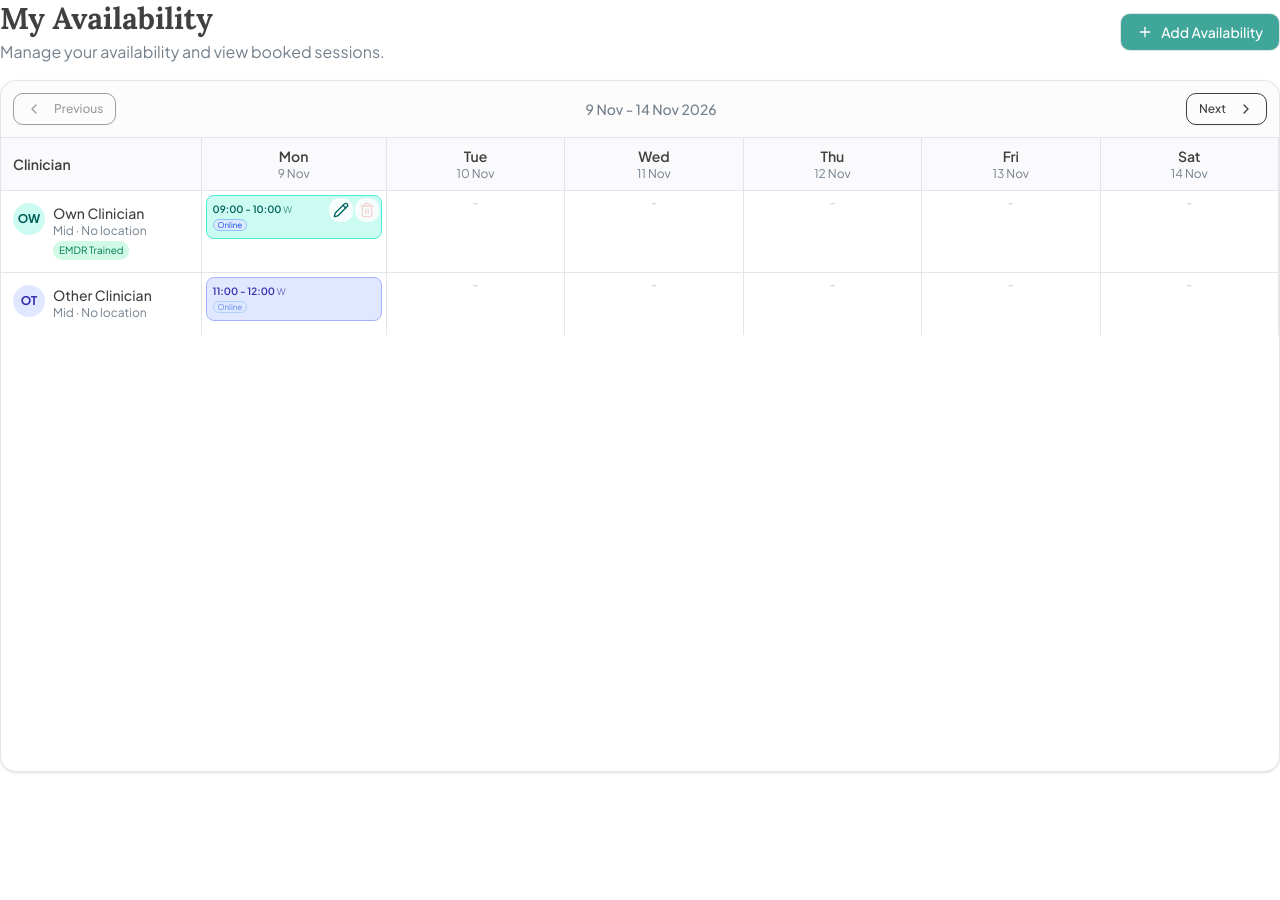
Test case: shows a stale-booking rejection after clicking the visible clinician retire icon
This screenshot has width=1280, height=900.
Click the button with test id "button-delete-slot-own-slot" at [367, 210], box x1=355 y1=198 x2=379 y2=222
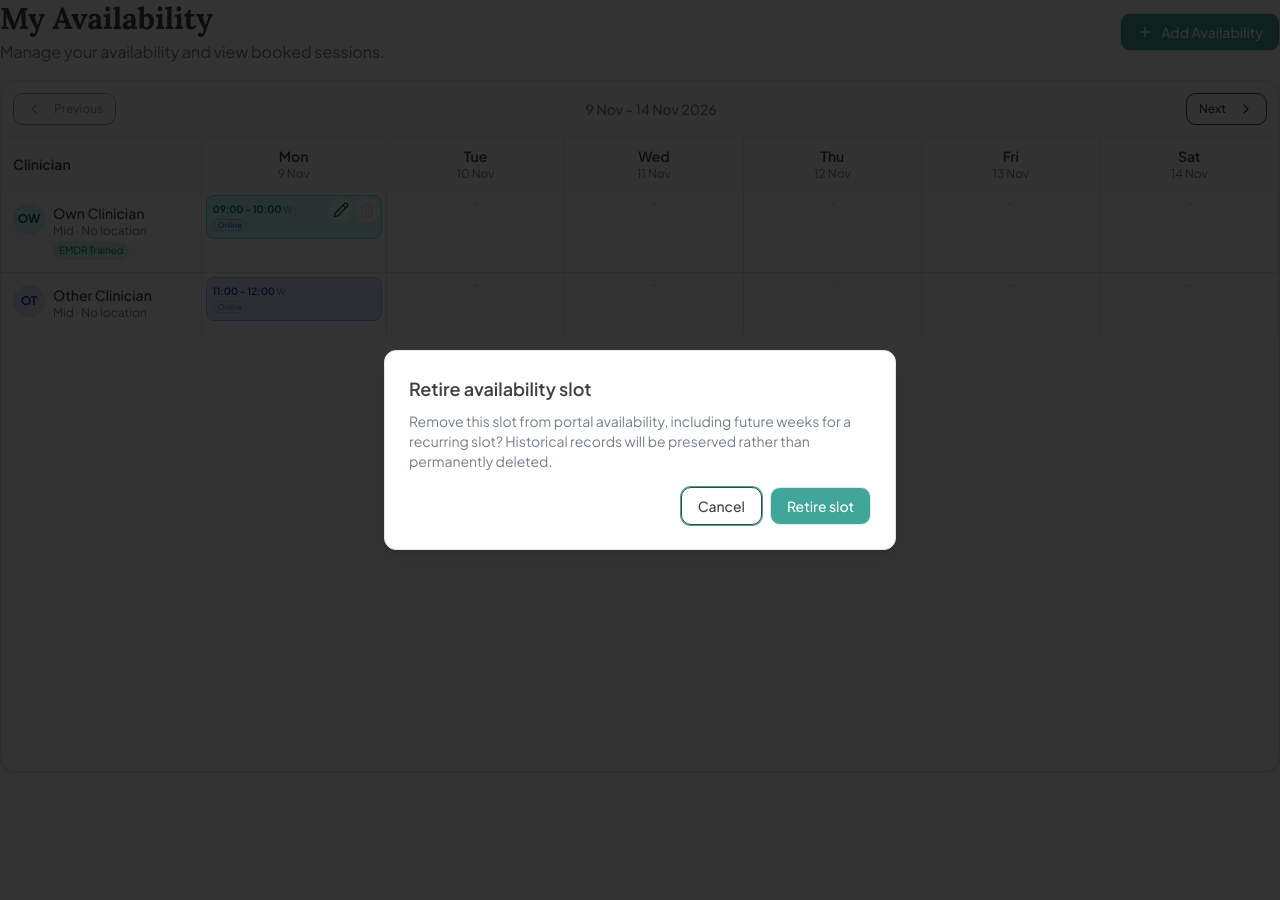
Click the button "Retire slot" at [820, 506], box x1=770 y1=487 x2=871 y2=525
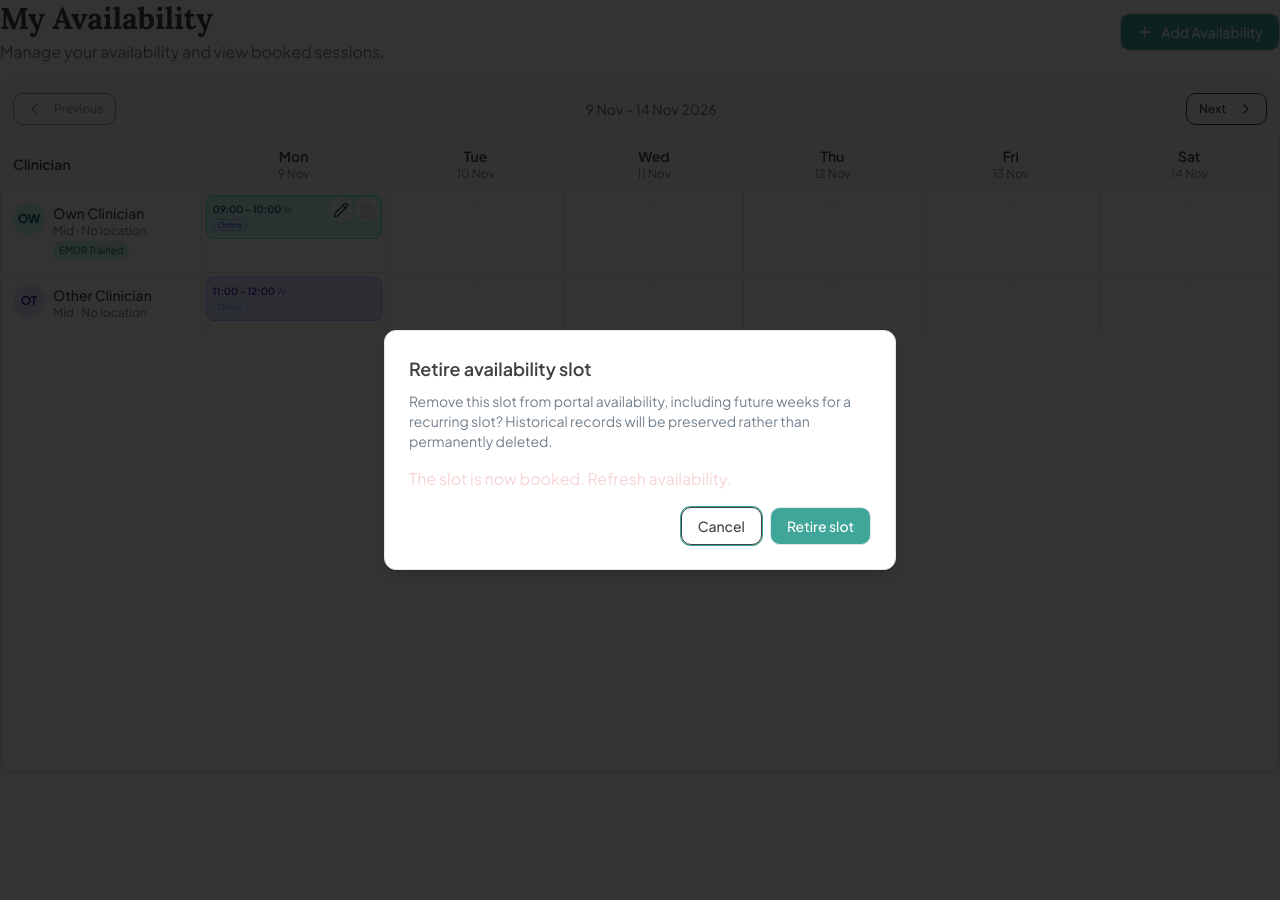
Now the text "The slot is now booked. Refresh availability." is shown, box x1=409 y1=468 x2=732 y2=489
